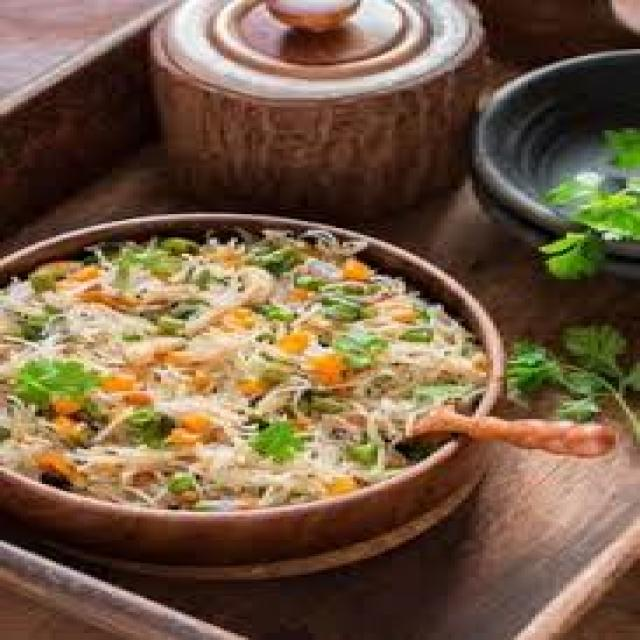UPMA: (0, 233, 483, 503)
